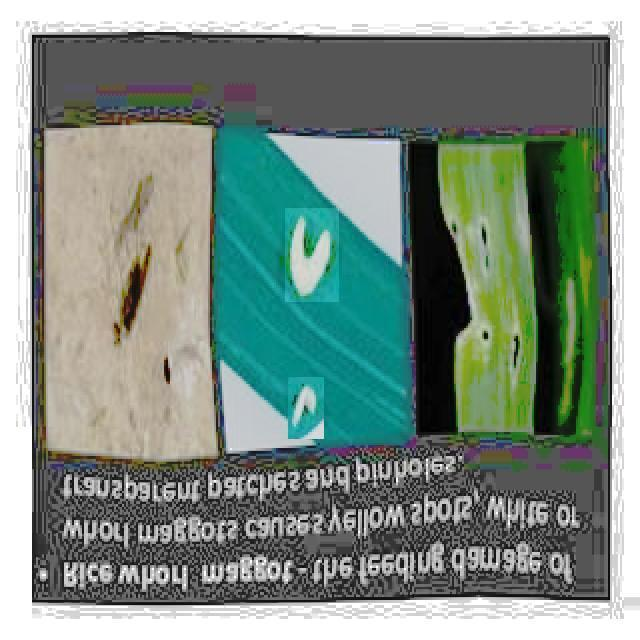whorl-maggot: (285, 209, 339, 303), (288, 377, 324, 439)
